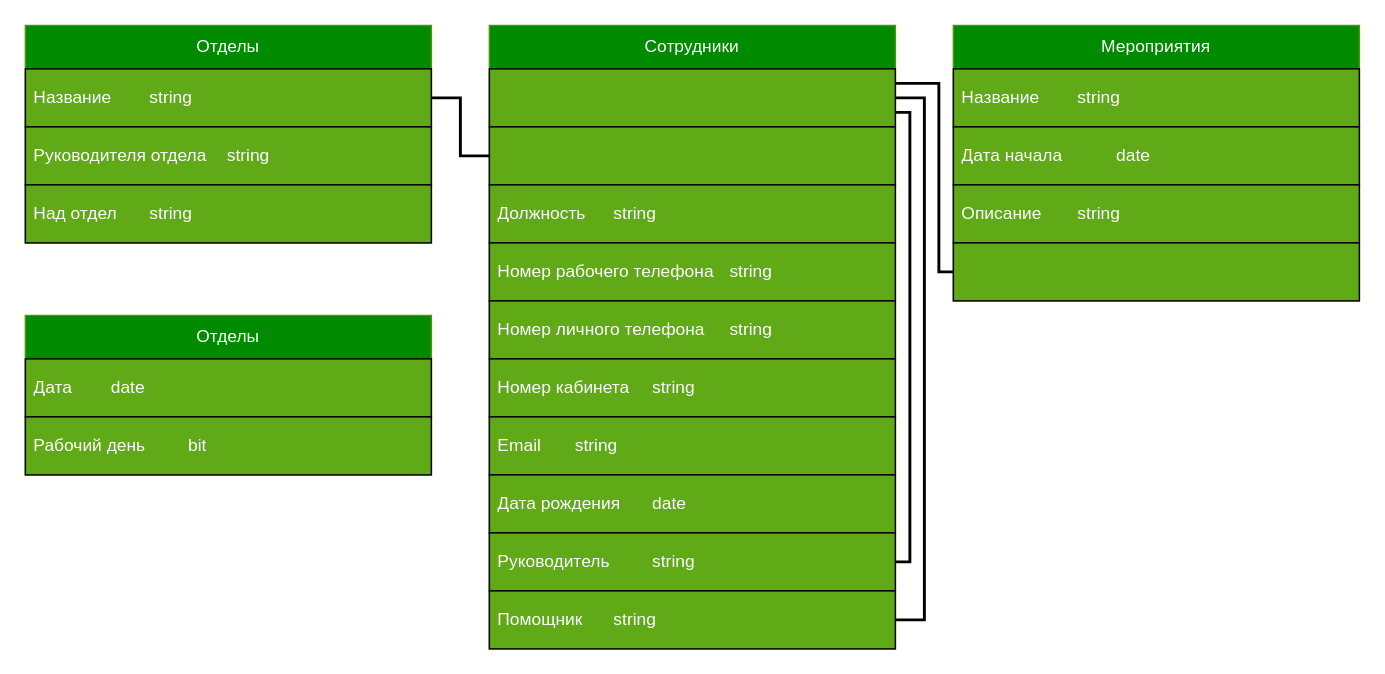
This 1385x674 diagram has some shape labels left out. The centre of each missing label's shape, as x and y in pixels:
Организатор string: (1155,271)
Отдел string: (691,155)
ФИО string: (691,97)
